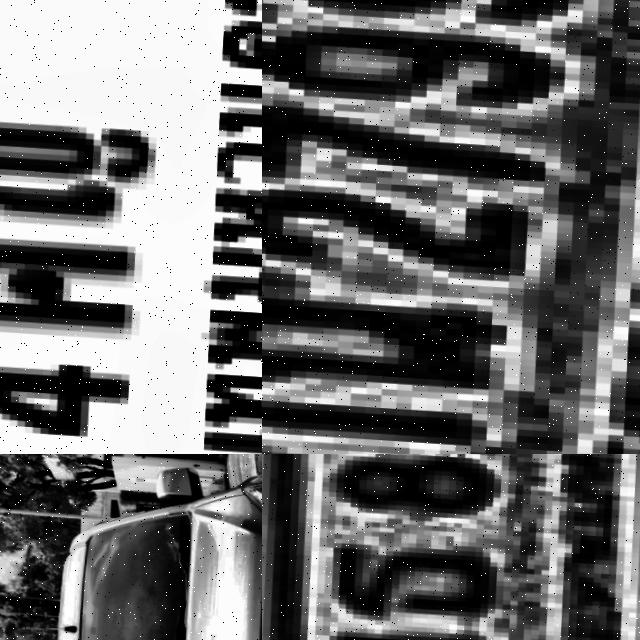license-plate: (262, 0, 640, 454), (0, 0, 262, 454), (262, 454, 640, 640)
